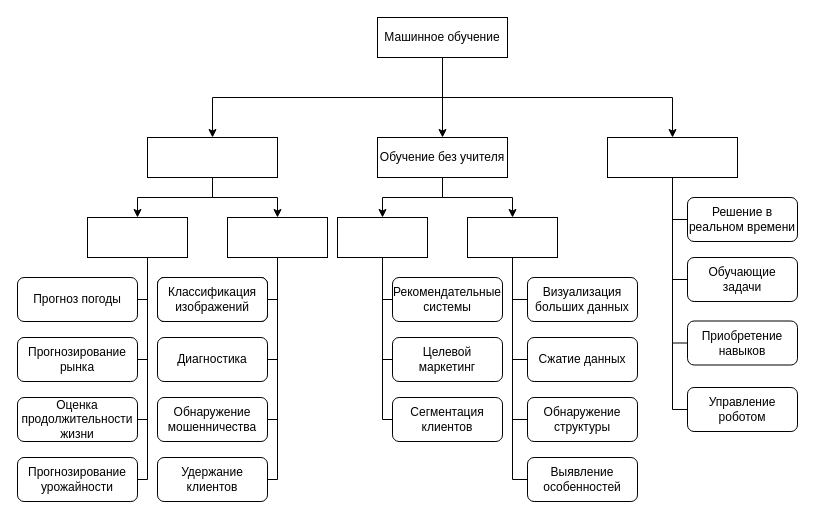
Image size: 815x519. Some labels were removed from this diagram. Each missing label, with the box of its shape:
Классификация: (226, 216, 328, 258)
Кластеризация: (336, 216, 428, 258)
Обучение с подкреплением: (606, 136, 738, 178)
Обучение с учителем: (146, 136, 278, 178)
Понижение размерности: (466, 216, 558, 258)
Регрессия: (86, 216, 188, 258)
